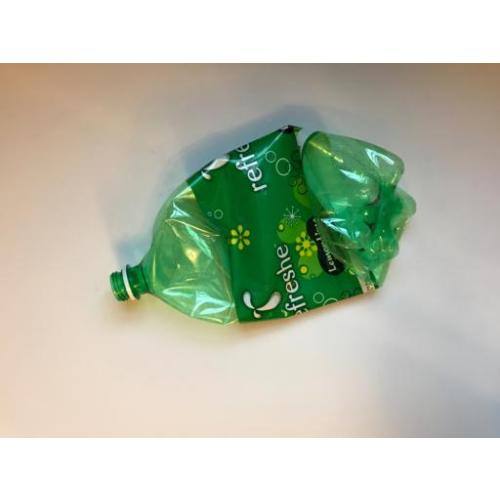plastic: (111, 124, 418, 329)
